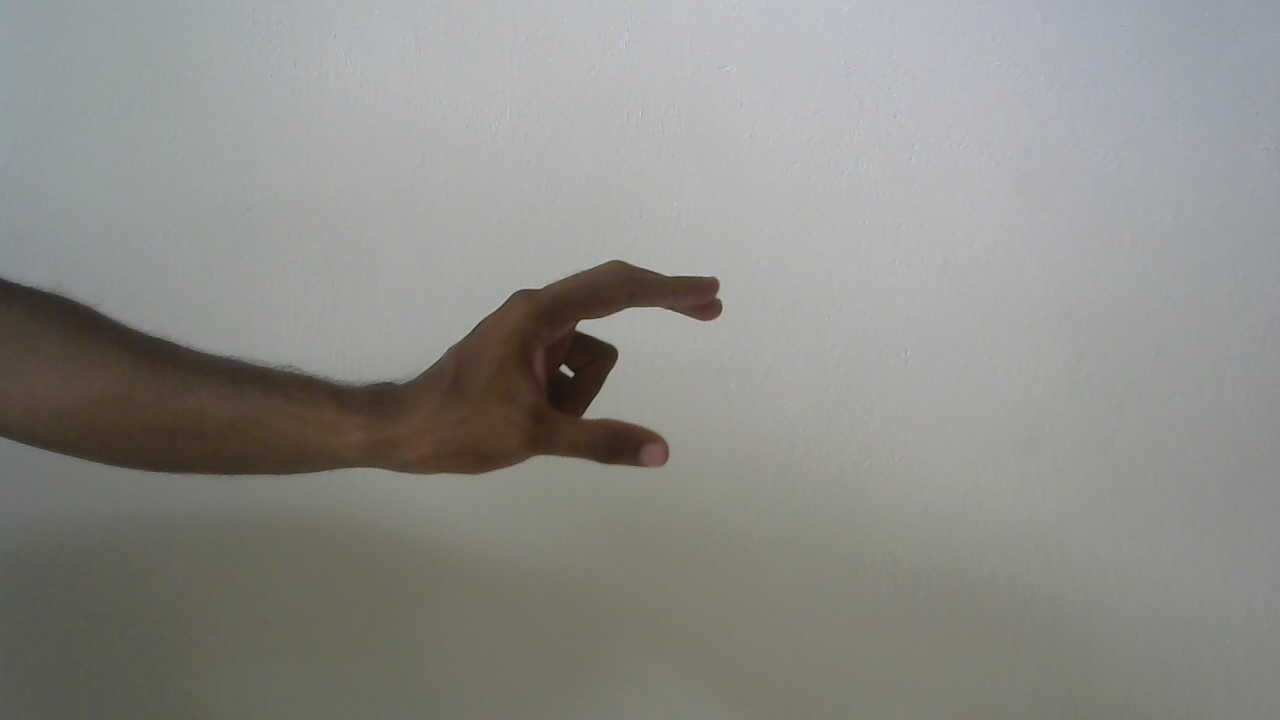no: (399, 256, 738, 499)
